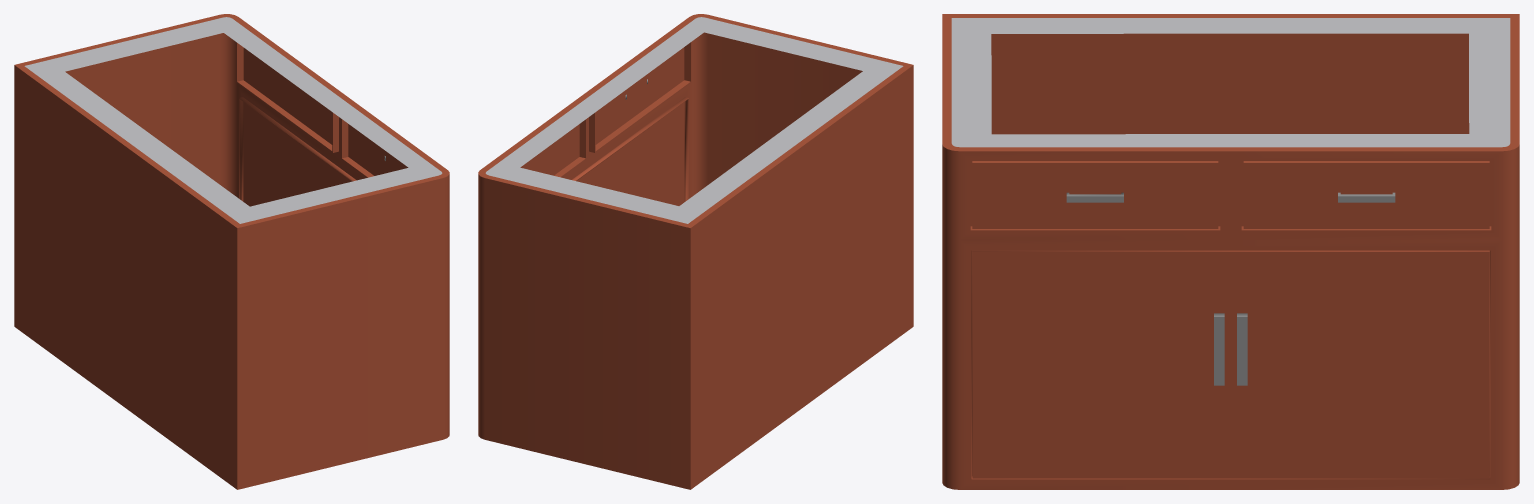
Rendered from Cabinet_Sink.fbx.
The picture shows the model from 3 angles, left to right: view 1: azimuth 30°, elevation 25°; view 2: azimuth 150°, elevation 25°; view 3: azimuth 270°, elevation 25°; orthographic projection. The views are drawn at different scales.
Visible parts, largest first — view 1: Cabinet_Sink; view 2: Cabinet_Sink; view 3: Cabinet_Sink.
Boxes of the visible parts, <box> form: Cabinet_Sink: <box>14,14,449,489</box>; Cabinet_Sink: <box>478,14,913,489</box>; Cabinet_Sink: <box>942,14,1519,489</box>.
Size of the model in its own units: 2.73 by 3.05 by 4.72.
Materials: 1 (1 with a texture image).
